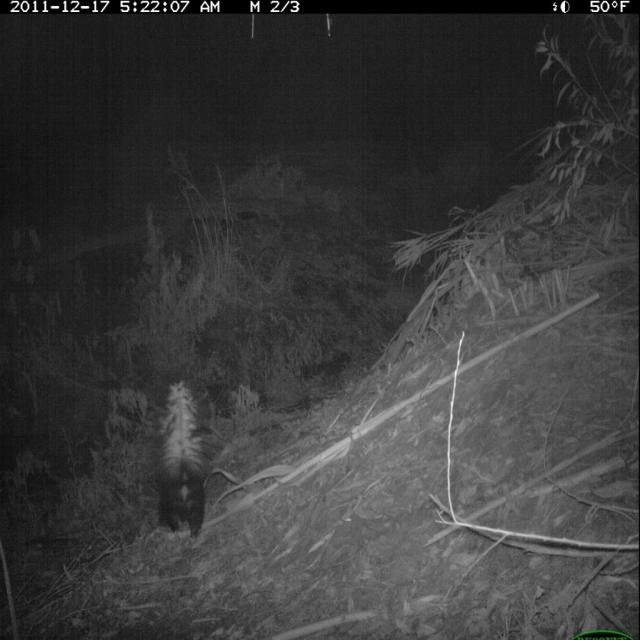skunk: (154, 366, 229, 547)
